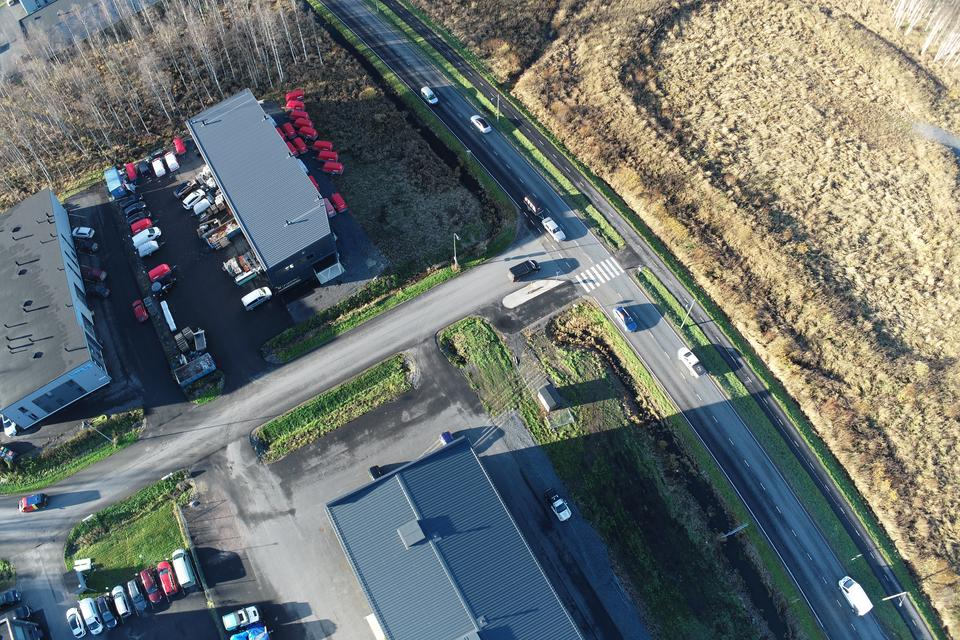intersection: (491, 180, 654, 388)
